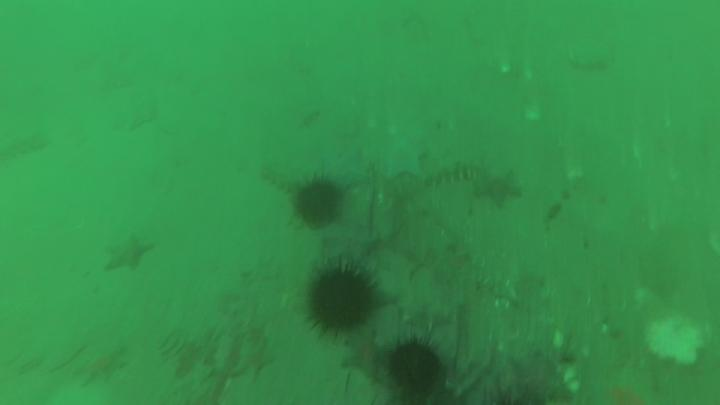echinus: (308, 272, 373, 331), (390, 345, 442, 391), (296, 184, 340, 227)
holothurian: (420, 161, 480, 188), (264, 166, 304, 193)
scallop: (643, 317, 706, 366)
starfish: (342, 331, 382, 377), (74, 349, 123, 386), (103, 236, 152, 272), (474, 172, 519, 206), (384, 142, 425, 179), (330, 151, 372, 187), (237, 346, 274, 379)
